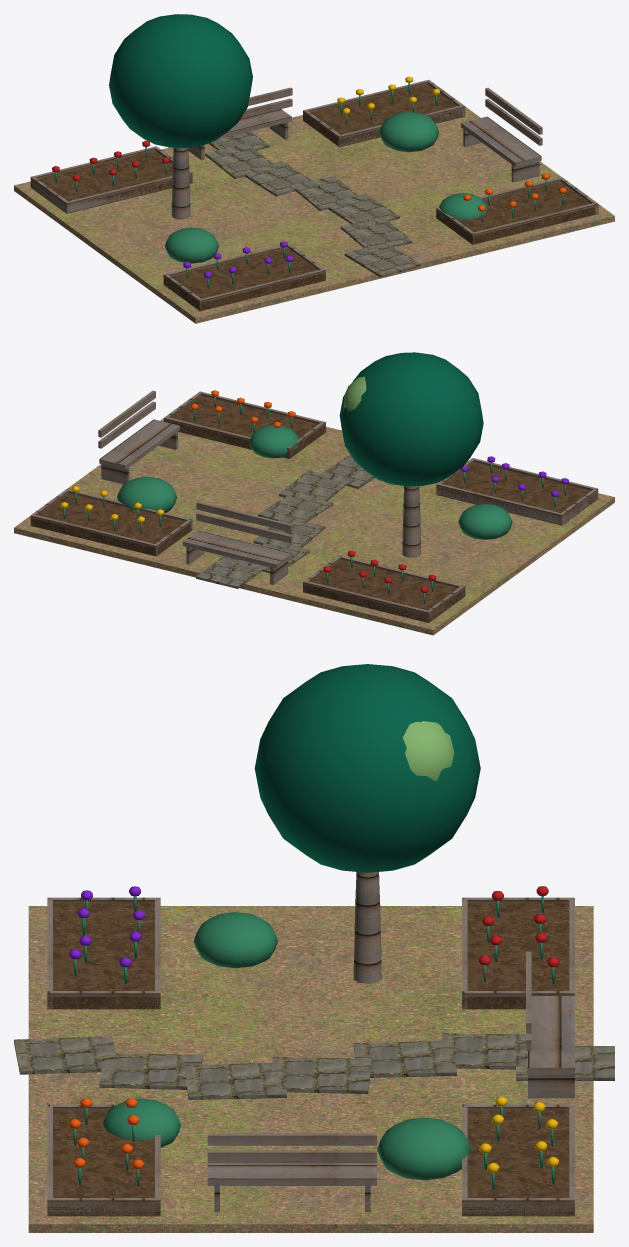
File: taman.glb
3 views of the same model, one above another, from view 1: azimuth 30°, elevation 25°; view 2: azimuth 150°, elevation 25°; view 3: azimuth 270°, elevation 25° (orthographic). The views are drawn at different scales.
Visible parts, largest first — view 1: Rumput, Tajuk_Pohon, Bedeng_2, Bedeng_3, Bedeng_1, Bedeng_0, Semak_0, Bangku_Duduk.001, Semak_2, Jalan_Batu_2, Jalan_Batu_0, Jalan_Batu_5 (+19 smaller); view 2: Rumput, Tajuk_Pohon, Bedeng_0, Bedeng_1, Bedeng_2, Bedeng_3, Bangku_Duduk, Bangku_Duduk.001, Semak_0, Semak_2, Bedeng_Pagar_N_2, Jalan_Batu_3 (+21 smaller); view 3: Rumput, Tajuk_Pohon, Bedeng_2, Bedeng_1, Bedeng_0, Bedeng_3, Semak_0, Bangku_Duduk.001, Semak_2, Bangku_Duduk, Jalan_Batu_0, Jalan_Batu_3 (+13 smaller).
Boxes of the visible parts, x1=… form: Rumput: x1=14, y1=107, x2=614, y2=323; Tajuk_Pohon: x1=109, y1=14, x2=252, y2=147; Bedeng_2: x1=163, y1=248, x2=325, y2=311; Bedeng_3: x1=436, y1=181, x2=598, y2=244; Bedeng_1: x1=303, y1=84, x2=465, y2=147; Bedeng_0: x1=30, y1=150, x2=192, y2=213; Semak_0: x1=379, y1=112, x2=439, y2=152; Bangku_Duduk.001: x1=461, y1=116, x2=541, y2=166; Semak_2: x1=164, y1=227, x2=218, y2=263; Jalan_Batu_2: x1=325, y1=193, x2=399, y2=227; Jalan_Batu_0: x1=344, y1=245, x2=420, y2=277; Jalan_Batu_5: x1=205, y1=143, x2=276, y2=178; Rumput: x1=14, y1=418, x2=614, y2=635; Tajuk_Pohon: x1=339, y1=352, x2=483, y2=486; Bedeng_0: x1=303, y1=559, x2=465, y2=622; Bedeng_1: x1=30, y1=493, x2=192, y2=556; Bedeng_2: x1=436, y1=462, x2=597, y2=525; Bedeng_3: x1=163, y1=395, x2=325, y2=458; Bangku_Duduk: x1=182, y1=530, x2=291, y2=568; Bangku_Duduk.001: x1=99, y1=419, x2=179, y2=469; Semak_0: x1=117, y1=476, x2=177, y2=512; Semak_2: x1=458, y1=504, x2=512, y2=539; Bedeng_Pagar_N_2: x1=436, y1=483, x2=563, y2=524; Jalan_Batu_3: x1=258, y1=492, x2=333, y2=525; Rumput: x1=28, y1=906, x2=593, y2=1232; Tajuk_Pohon: x1=254, y1=664, x2=480, y2=872; Bedeng_2: x1=47, y1=903, x2=160, y2=1009; Bedeng_1: x1=462, y1=1110, x2=574, y2=1216; Bedeng_0: x1=462, y1=903, x2=569, y2=1009; Bedeng_3: x1=47, y1=1110, x2=160, y2=1216; Semak_0: x1=377, y1=1117, x2=471, y2=1180; Bangku_Duduk.001: x1=207, y1=1163, x2=376, y2=1185; Semak_2: x1=193, y1=912, x2=277, y2=968; Bangku_Duduk: x1=528, y1=996, x2=574, y2=1074; Jalan_Batu_0: x1=14, y1=1036, x2=118, y2=1074; Jalan_Batu_3: x1=269, y1=1056, x2=371, y2=1093.
Size of the model in its own units: 8 by 3.68 by 6.38.
11 materials, 4 textured.
